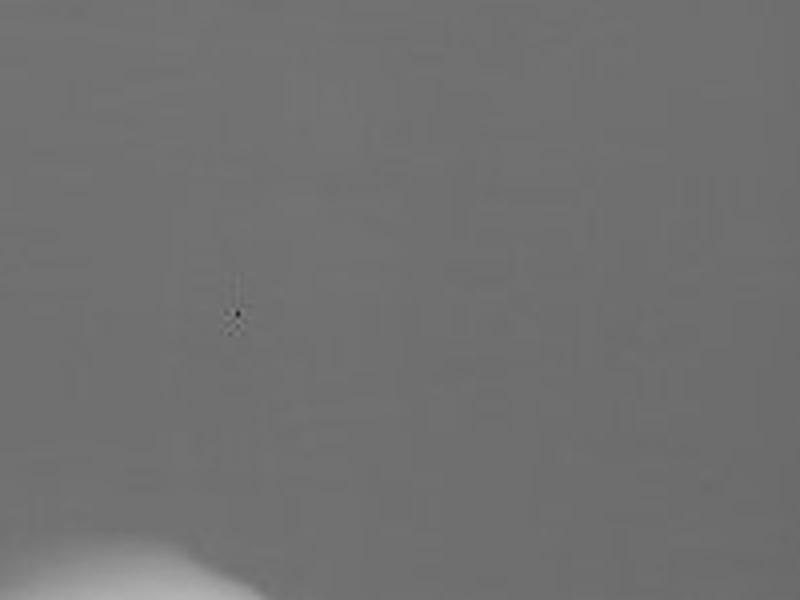defect: (230, 304, 244, 323)
